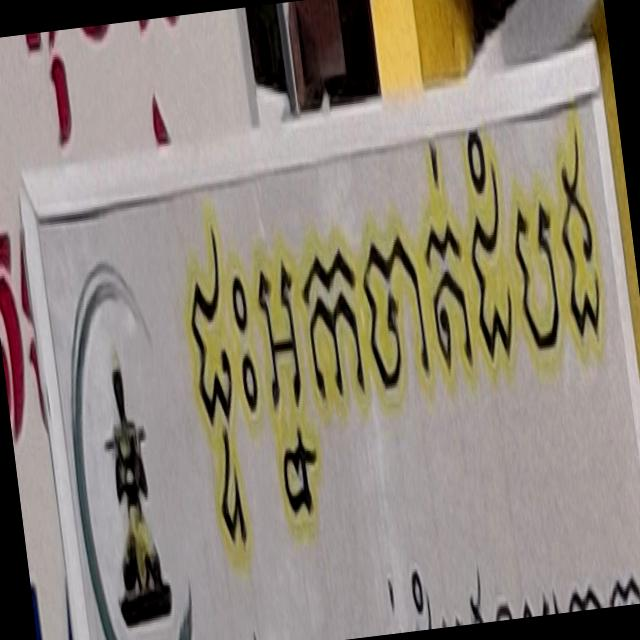Yolov11_80vkh: (158, 82, 640, 617)
